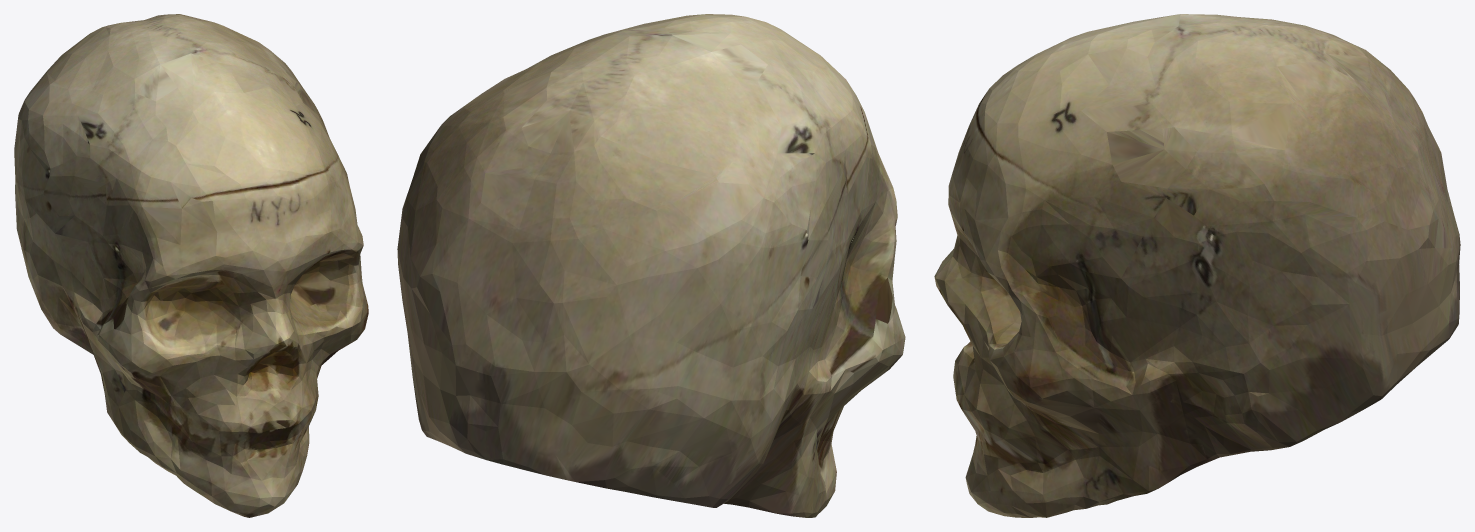
The model's file is skull_decimated.dae.
The picture shows the model from 3 angles, left to right: view 1: azimuth 30°, elevation 25°; view 2: azimuth 150°, elevation 25°; view 3: azimuth 270°, elevation 25°; orthographic projection. The views are drawn at different scales.
Parts seen in each view (by area): view 1: node; view 2: node; view 3: node.
Part boxes in pixels (x1,y1,x2,y2): node: (14, 14, 368, 517); node: (397, 14, 905, 517); node: (934, 14, 1460, 517).
Bounding box in the file's own units: 0.2115 × 0.3001 × 0.3048.
Materials: 1 (1 with a texture image).
